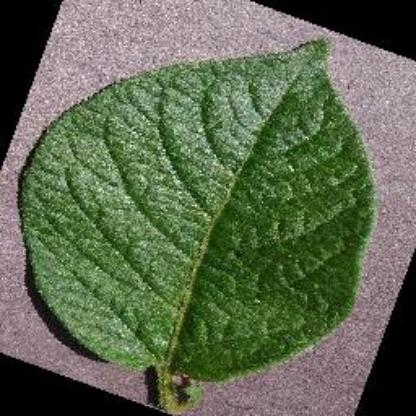Healthy-plant: (19, 32, 386, 416)
